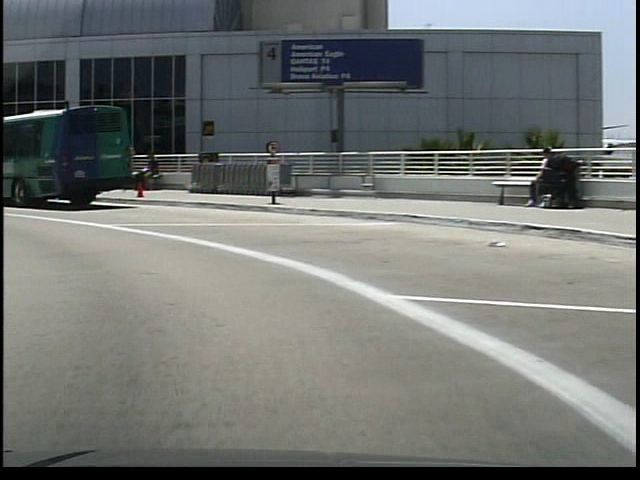person: (133, 149, 159, 195)
